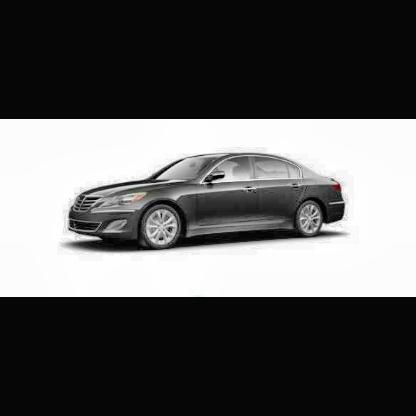Hyundai Genesis Sedan 2012: (69, 152, 347, 251)
